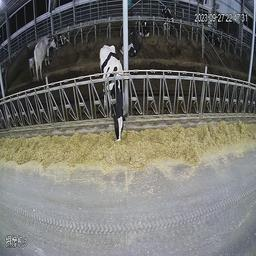cow: (99, 42, 127, 143), (35, 35, 57, 81), (159, 3, 177, 38), (128, 22, 141, 58), (206, 27, 222, 47), (139, 14, 151, 38), (57, 30, 69, 47)
